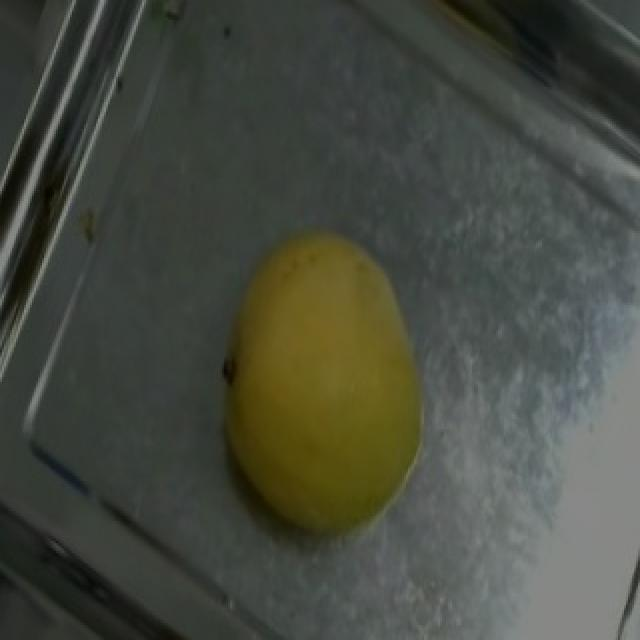fruit: (174, 196, 486, 568)
